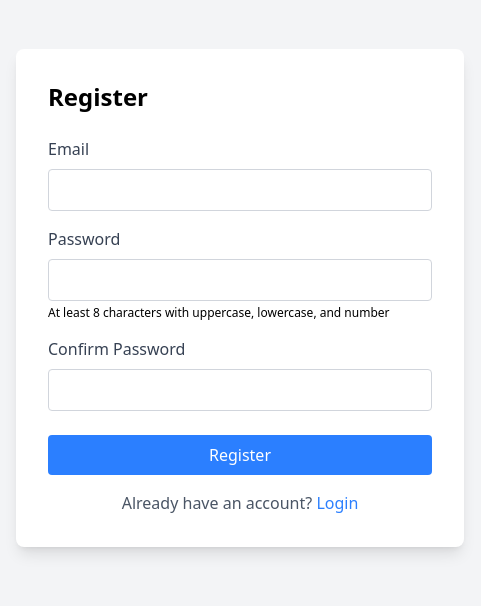
Test: RegisterPage › should show error when passwords do not match
This screenshot has width=481, height=606.
In the field labelled "Email": (240, 190) [48,169,432,211], type "test@example.com"
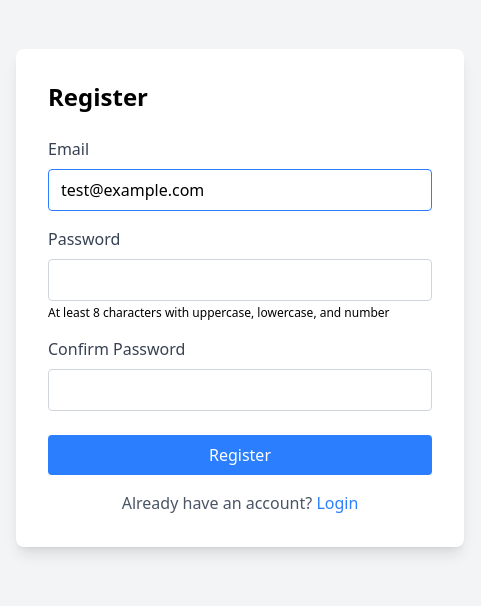
In the password field labelled "Password": (240, 280) [48,259,432,301], type "Test1234!"
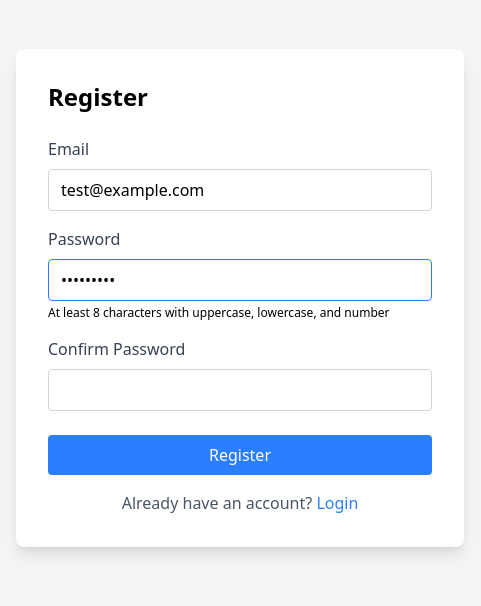
In the password field labelled "Confirm Password": (240, 390) [48,369,432,411], type "Somthing1234!"
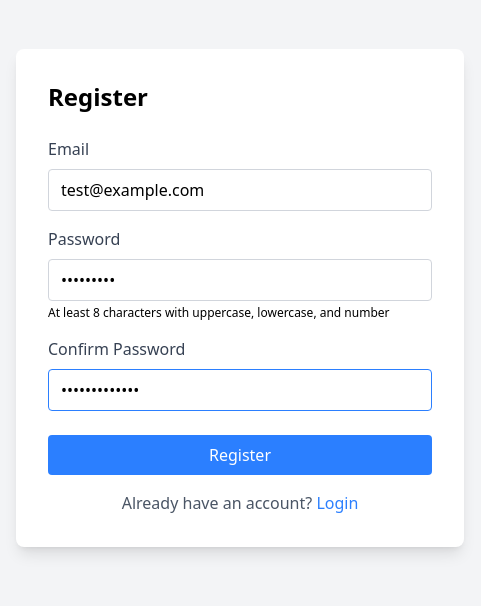
// Click register
Click the button "Register": (240, 455) [48,435,432,475]
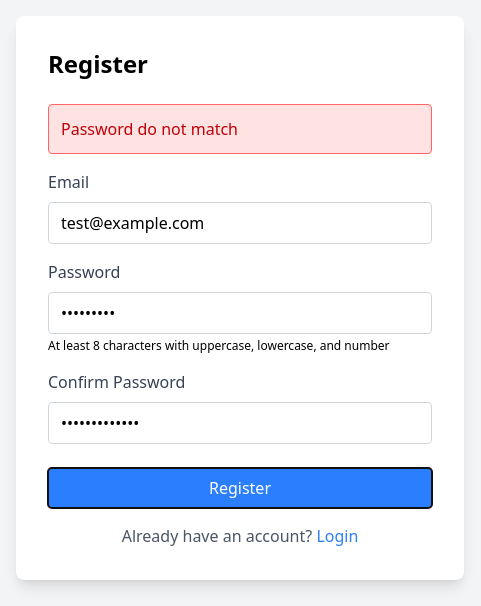
Expected: the text "Password do not match" is shown, [48,104,432,154]
